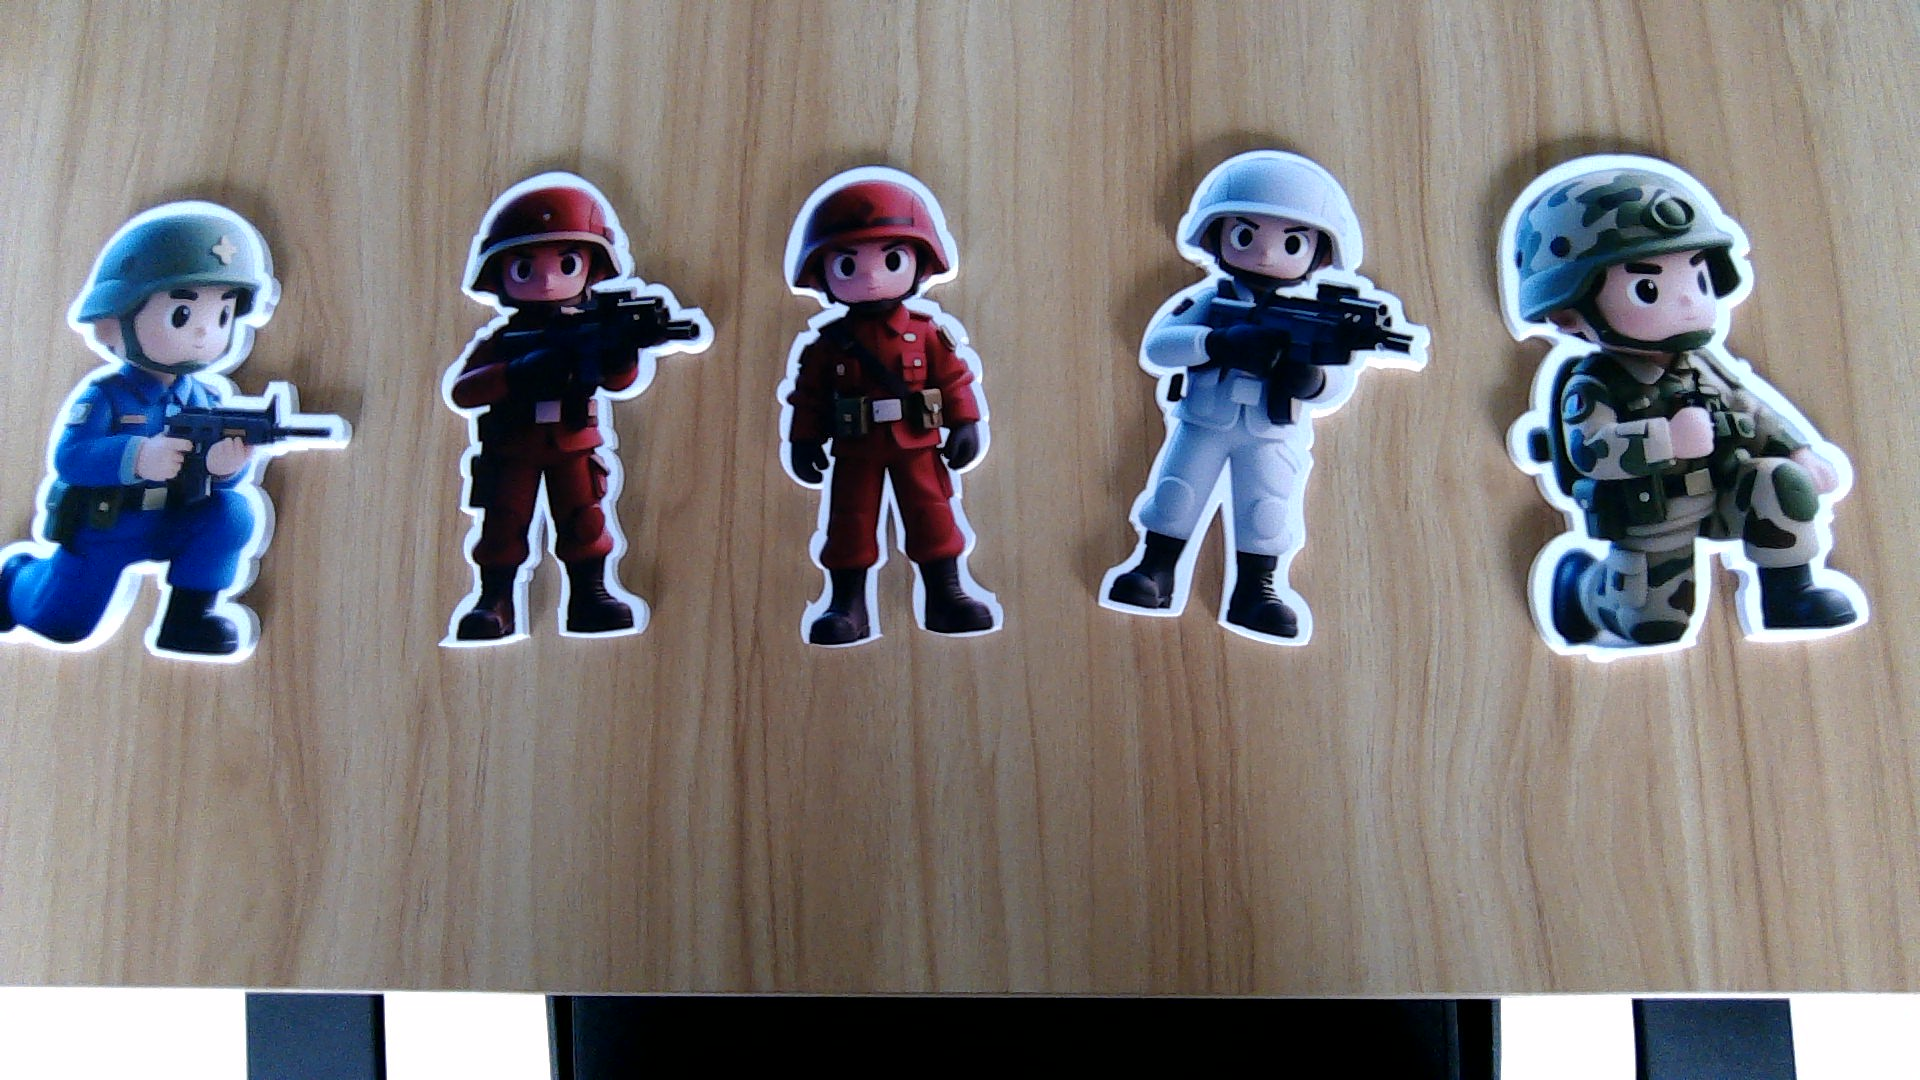人质: (1097, 285, 1424, 645)
友军: (1509, 348, 1874, 663)
敌人1: (436, 303, 698, 647), (779, 306, 1007, 645)
敌人2: (0, 372, 347, 669)
